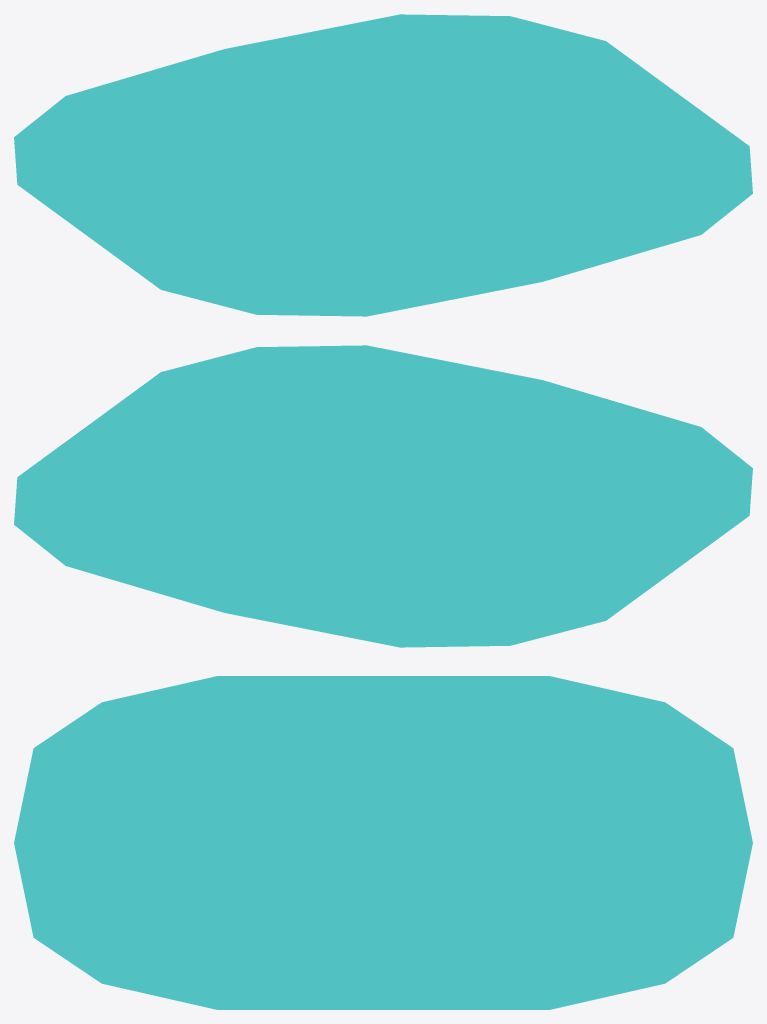
The model's file is dummy_soup1.gltf.
3 views of the same model, one above another, from view 1: azimuth 30°, elevation 25°; view 2: azimuth 150°, elevation 25°; view 3: azimuth 270°, elevation 25° (orthographic). The views are drawn at different scales.
Parts seen in each view (by area): view 1: dummy_soup1; view 2: dummy_soup1; view 3: dummy_soup1.
Boxes of the visible parts, box(x1,y1,x2,y2) form: dummy_soup1: box(14, 14, 752, 316); dummy_soup1: box(14, 345, 752, 647); dummy_soup1: box(14, 676, 752, 1009).
Bounding box in the file's own units: 0.3052 × 0 × 0.2856.
